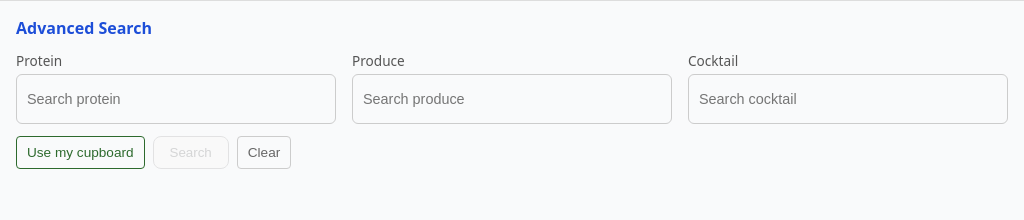
AdvancedSearch › selecting an ingredient groups it under its root category box and labels it with its specific IngredientType
Type "Chicken" into the field with id "ingredient-category-1".
click(176, 99); type("Chicken")  # box top-left (25, 90), bottom-right (327, 108)
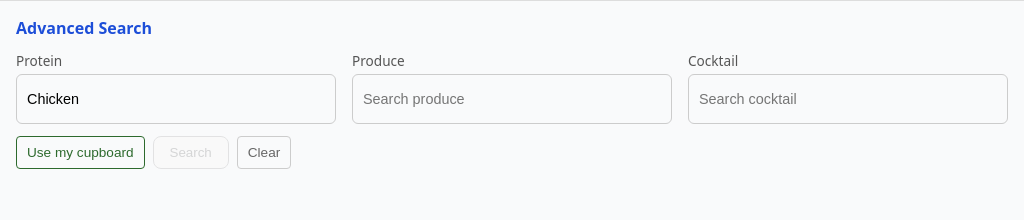
Press Enter in the field with id "ingredient-category-1", box top-left (25, 90), bottom-right (327, 108)
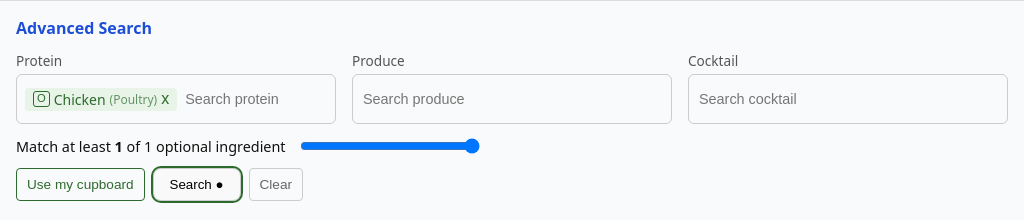
Check: the number of elements with class "ingredient-tag" is 1, box top-left (25, 88), bottom-right (177, 110)
Check: the element with class "ingredient-tag" shows "Chicken", box top-left (54, 90), bottom-right (106, 108)
Check: the element with class "ingredient-tag" shows "Poultry", box top-left (110, 90), bottom-right (157, 108)
